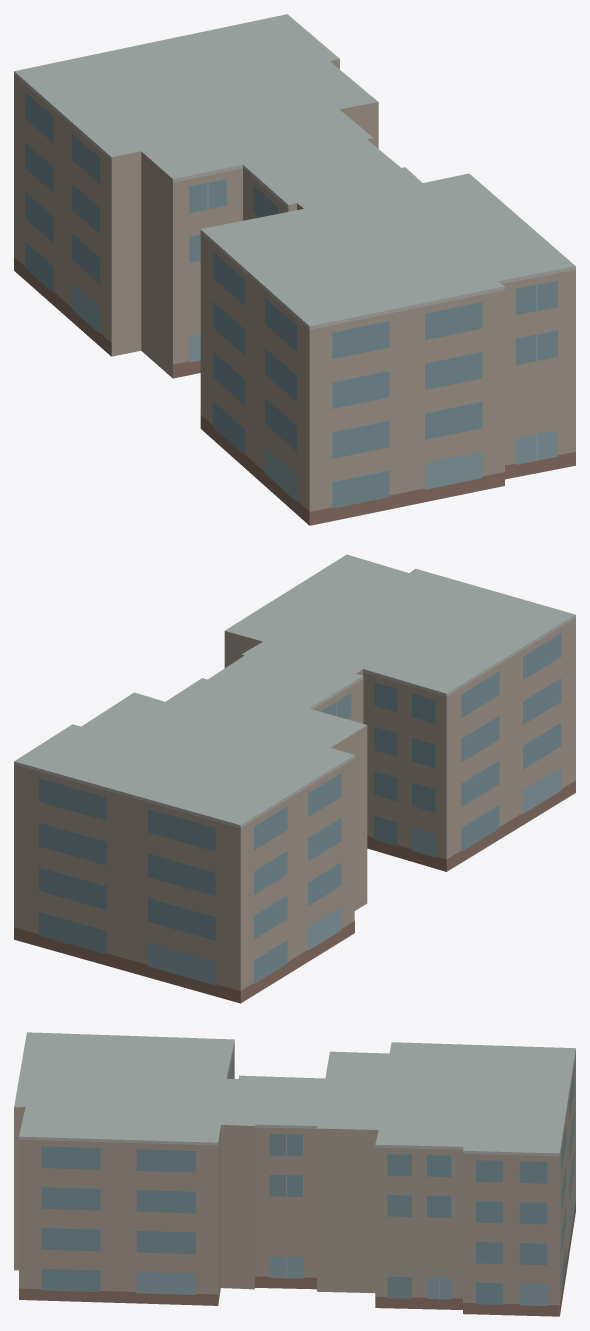
File: survey-upis-32837644.glb
3 views of the same model, one above another, from view 1: azimuth 30°, elevation 25°; view 2: azimuth 150°, elevation 25°; view 3: azimuth 270°, elevation 25° (orthographic). The views are drawn at different scales.
Visible parts, largest first — view 1: survey-upis-32837644.tmp; view 2: survey-upis-32837644.tmp; view 3: survey-upis-32837644.tmp.
Part boxes in pixels (x1,y1,x2,y2): survey-upis-32837644.tmp: (14,14,575,525); survey-upis-32837644.tmp: (14,554,575,1003); survey-upis-32837644.tmp: (14,1032,575,1316).
Size of the model in its own units: 22.08 by 13.87 by 43.28.
